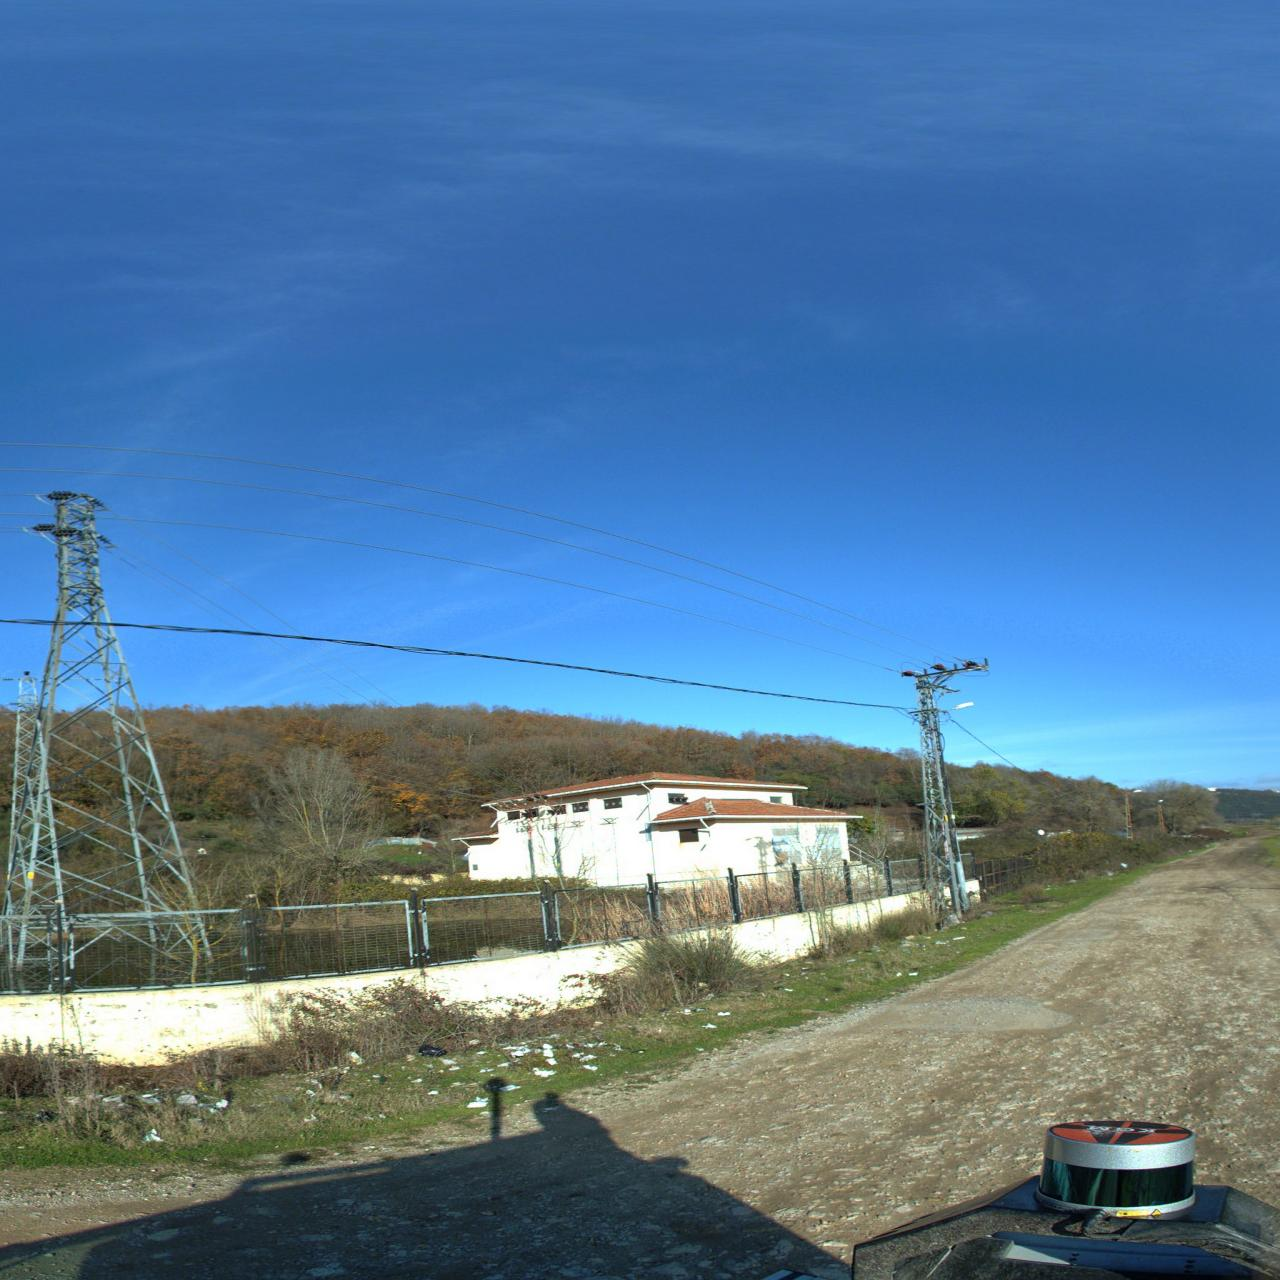Utility Pole Information Plate: (27, 871, 35, 879)
